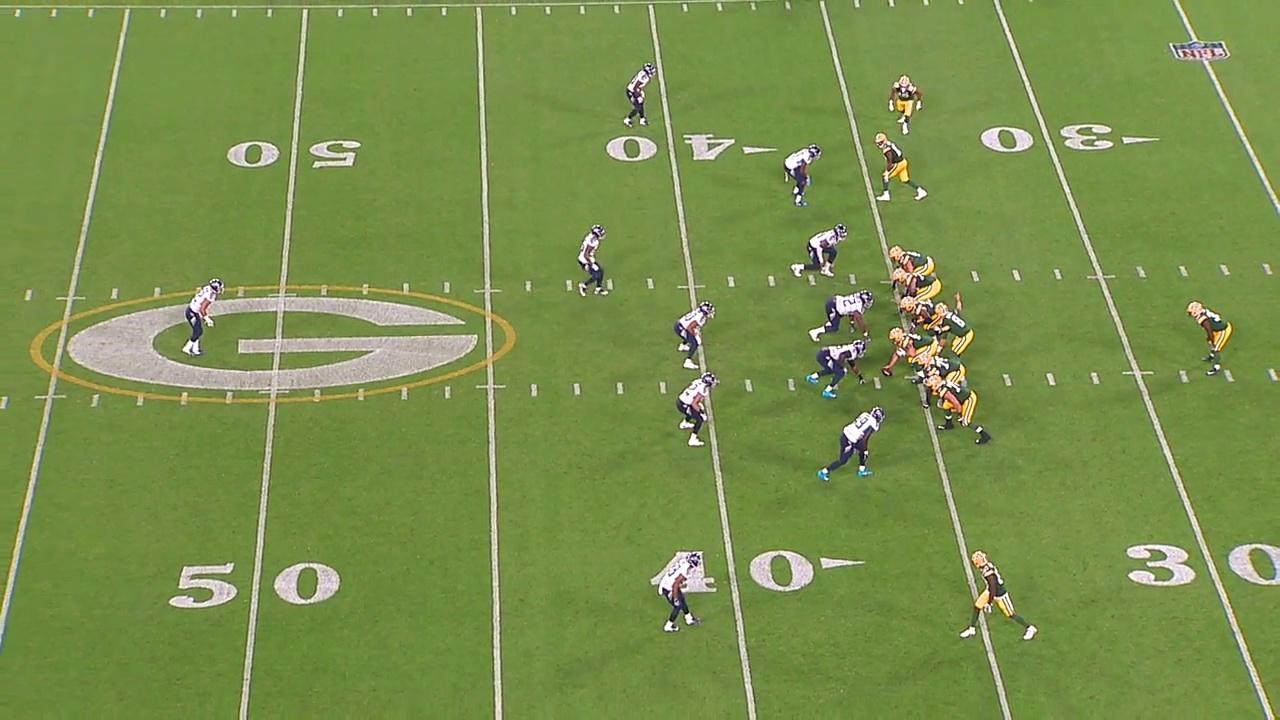player: (958, 548, 1040, 646), (815, 404, 888, 483), (926, 375, 992, 448), (871, 130, 932, 205), (656, 548, 705, 635), (804, 337, 869, 401), (1185, 300, 1234, 379), (806, 288, 875, 344), (180, 276, 226, 359), (672, 371, 719, 449), (881, 326, 939, 386), (788, 222, 849, 279), (672, 299, 718, 372), (916, 350, 966, 413), (574, 222, 610, 299), (782, 142, 823, 208), (886, 73, 927, 137), (932, 302, 975, 361), (623, 60, 658, 130), (898, 294, 946, 343), (890, 267, 943, 302), (887, 244, 937, 276)
